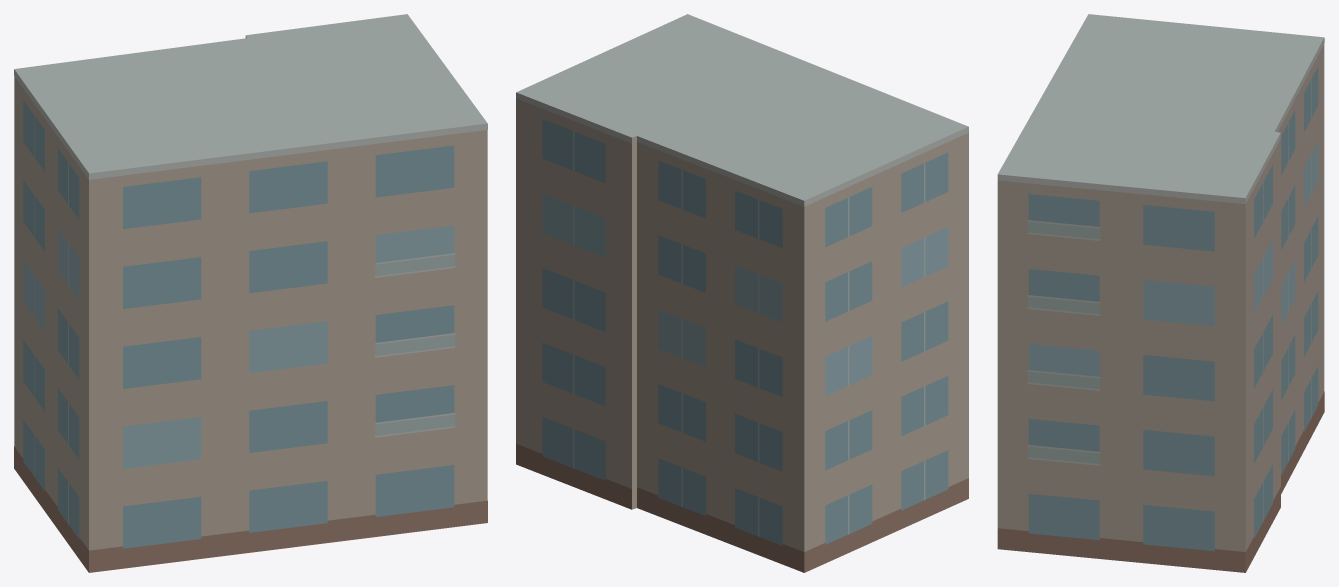
Rendered from survey-upis-32633506.glb.
3 views of the same model, side by side, from view 1: azimuth 30°, elevation 25°; view 2: azimuth 150°, elevation 25°; view 3: azimuth 270°, elevation 25° (orthographic). The views are drawn at different scales.
Visible parts, largest first — view 1: survey-upis-32633506.tmp; view 2: survey-upis-32633506.tmp; view 3: survey-upis-32633506.tmp.
Part boxes in pixels (x1,y1,x2,y2): survey-upis-32633506.tmp: (14,14,487,572); survey-upis-32633506.tmp: (516,14,968,572); survey-upis-32633506.tmp: (997,14,1324,572).
Bounding box in the file's own units: 16.08 × 15.25 × 12.07.
